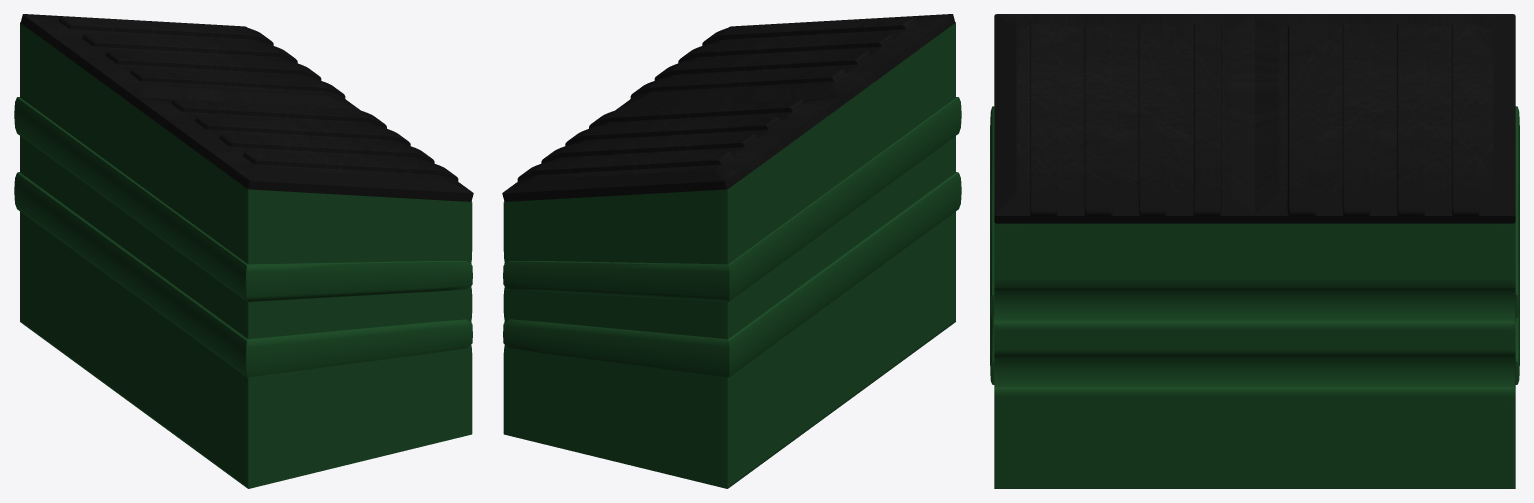
The model's file is Trash Basket.fbx.
The picture shows the model from 3 angles, left to right: view 1: azimuth 30°, elevation 25°; view 2: azimuth 150°, elevation 25°; view 3: azimuth 270°, elevation 25°; orthographic projection. The views are drawn at different scales.
Parts seen in each view (by area): view 1: Cube, Cube.001; view 2: Cube, Cube.001; view 3: Cube, Cube.001.
Part boxes in pixels (left/top/right/bottom): Cube: left=14, top=23, right=472, bottom=488; Cube.001: left=20, top=14, right=473, bottom=201; Cube: left=503, top=23, right=961, bottom=488; Cube.001: left=502, top=14, right=955, bottom=201; Cube: left=990, top=106, right=1519, bottom=488; Cube.001: left=994, top=14, right=1515, bottom=223.
Size of the model in its own units: 317 by 409 by 552.
